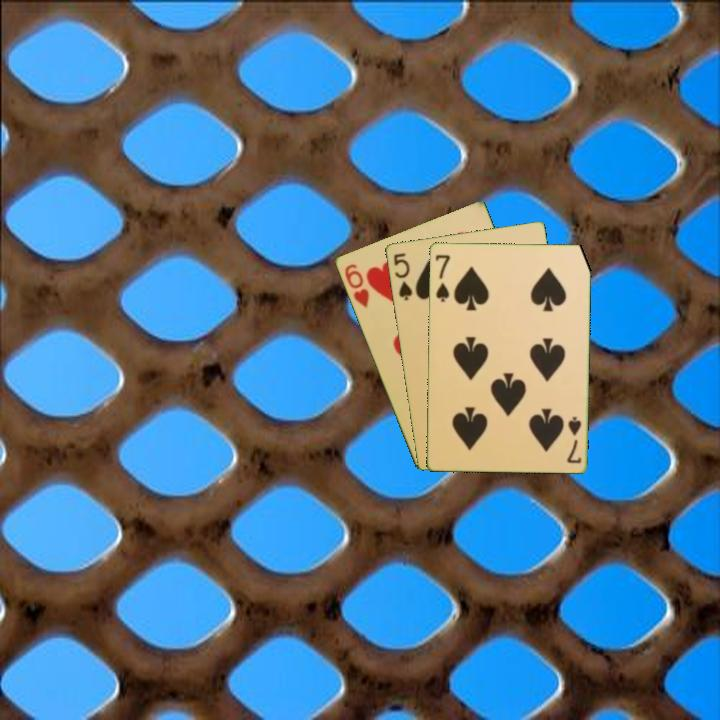5s: (390, 249, 415, 303)
6h: (341, 260, 372, 311)
7s: (563, 413, 584, 466), (432, 251, 452, 304)
